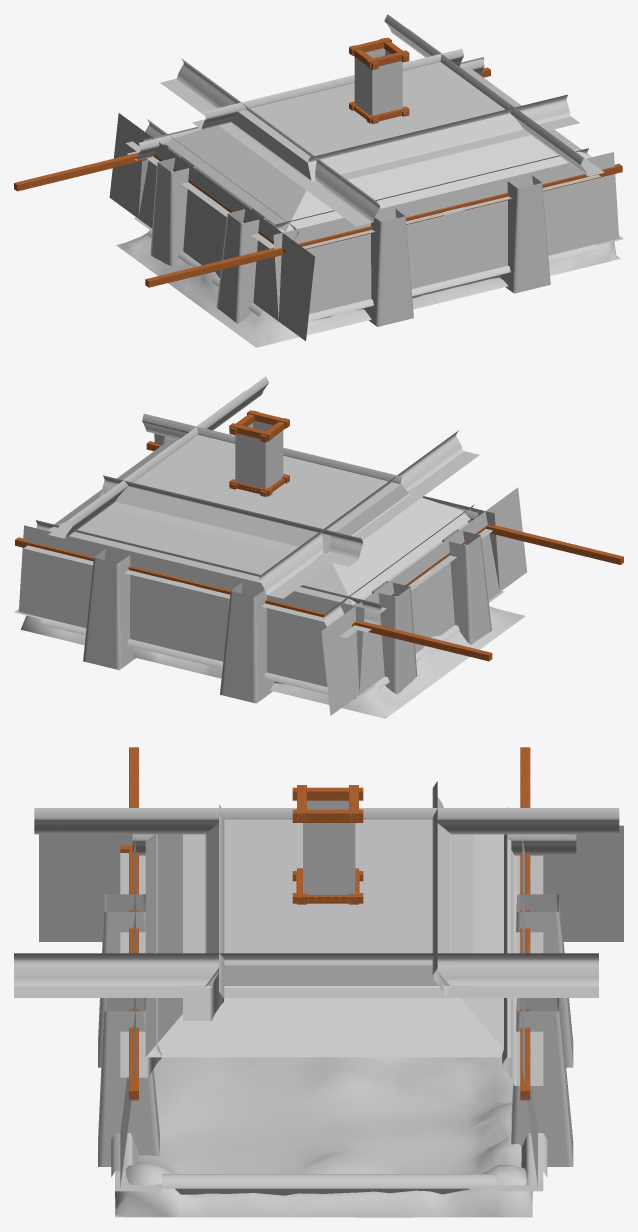
The model's file is Armory_D.fbx.
3 views of the same model, one above another, from view 1: azimuth 30°, elevation 25°; view 2: azimuth 150°, elevation 25°; view 3: azimuth 270°, elevation 25° (orthographic). The views are drawn at different scales.
Visible parts, largest first — view 1: MeshBakerResult.471; view 2: MeshBakerResult.471; view 3: MeshBakerResult.471.
Boxes of the visible parts, <box> form: MeshBakerResult.471: <box>14,14,623,347</box>; MeshBakerResult.471: <box>14,376,623,718</box>; MeshBakerResult.471: <box>14,747,623,1217</box>.
Bounding box in the file's own units: 3896 × 1606 × 2920.
